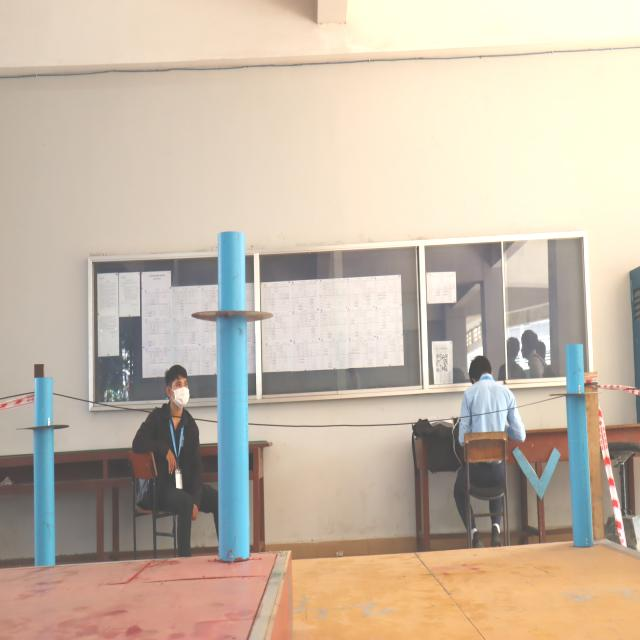pole: (190, 226, 278, 392), (545, 338, 604, 446), (19, 370, 67, 478)
